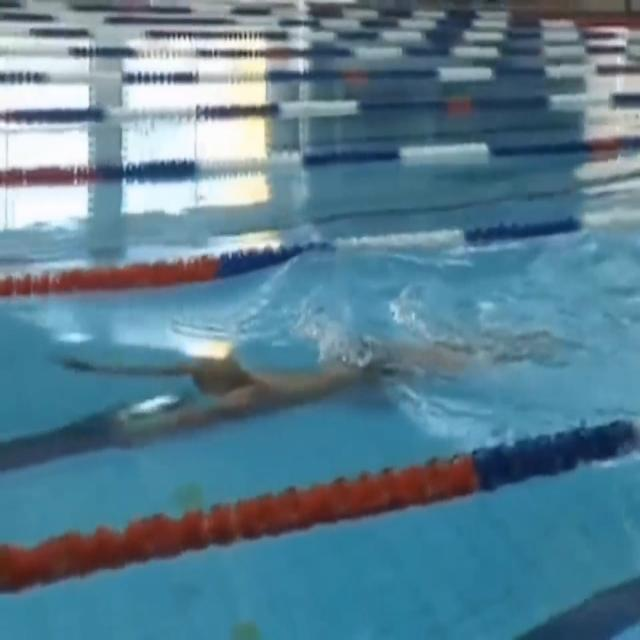Swimming: (59, 344, 571, 434)
